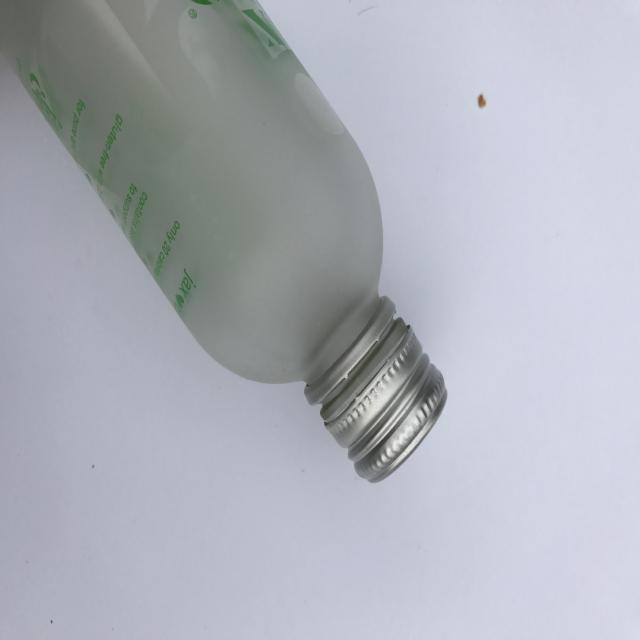glass: (0, 2, 450, 486)
